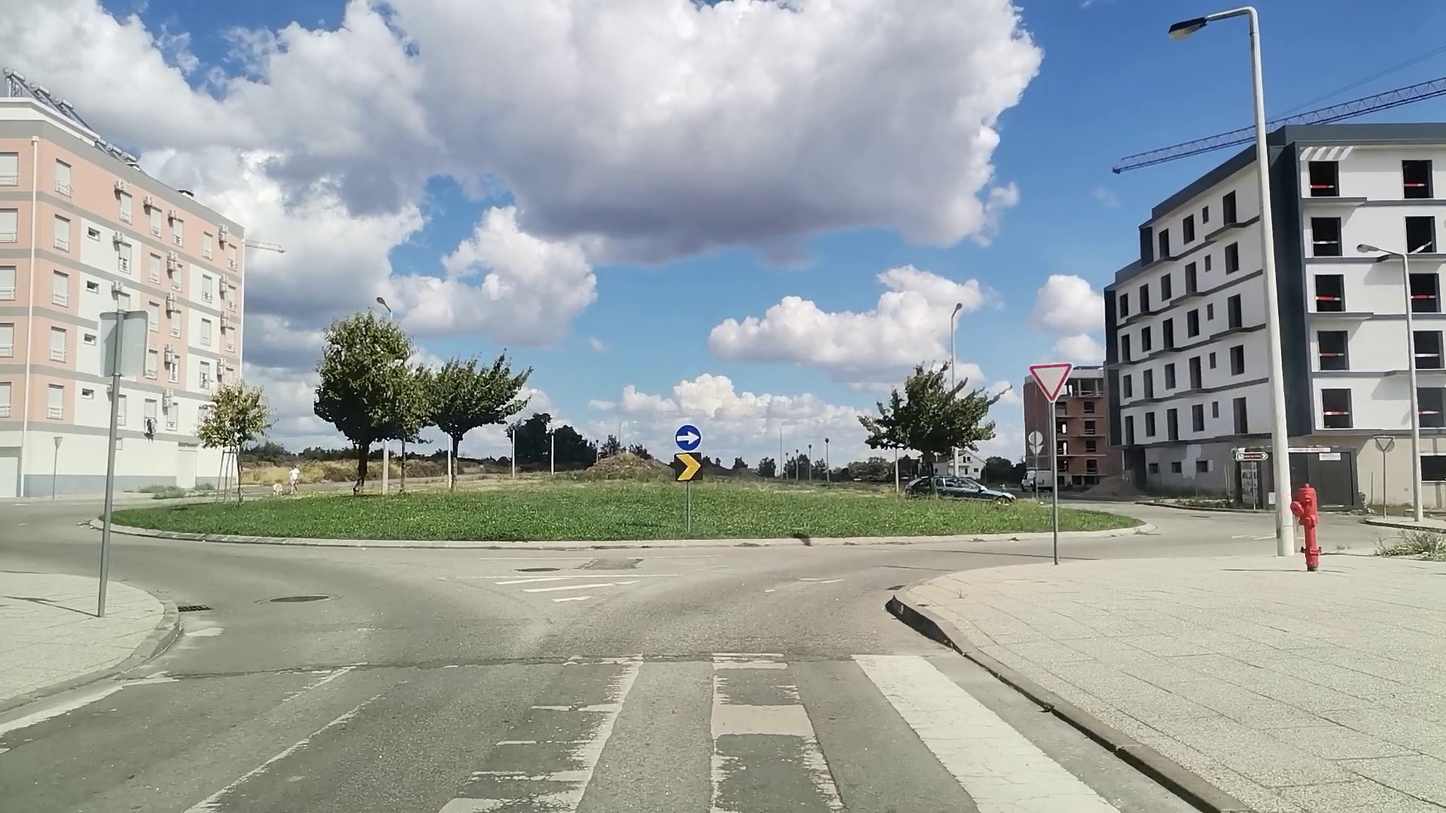Stairs: (0, 647, 1132, 810)
